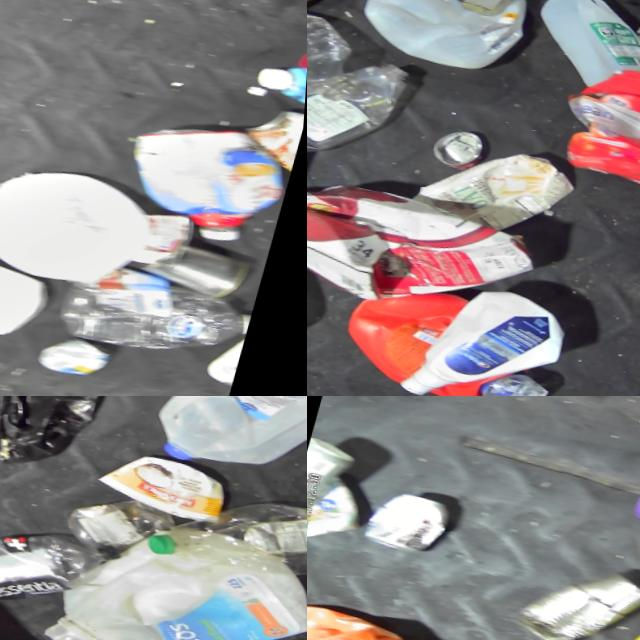can: (502, 556, 640, 640), (137, 235, 261, 310), (367, 489, 460, 561), (415, 120, 500, 179)
milk_jug: (48, 522, 307, 640), (0, 156, 163, 300), (153, 396, 307, 500), (354, 0, 544, 83), (522, 0, 640, 102), (0, 232, 63, 355)
non_white_jug: (108, 110, 302, 259), (307, 590, 487, 640)
plastic_bottle: (57, 265, 264, 378), (141, 477, 307, 587), (307, 39, 431, 175), (307, 0, 364, 111)
